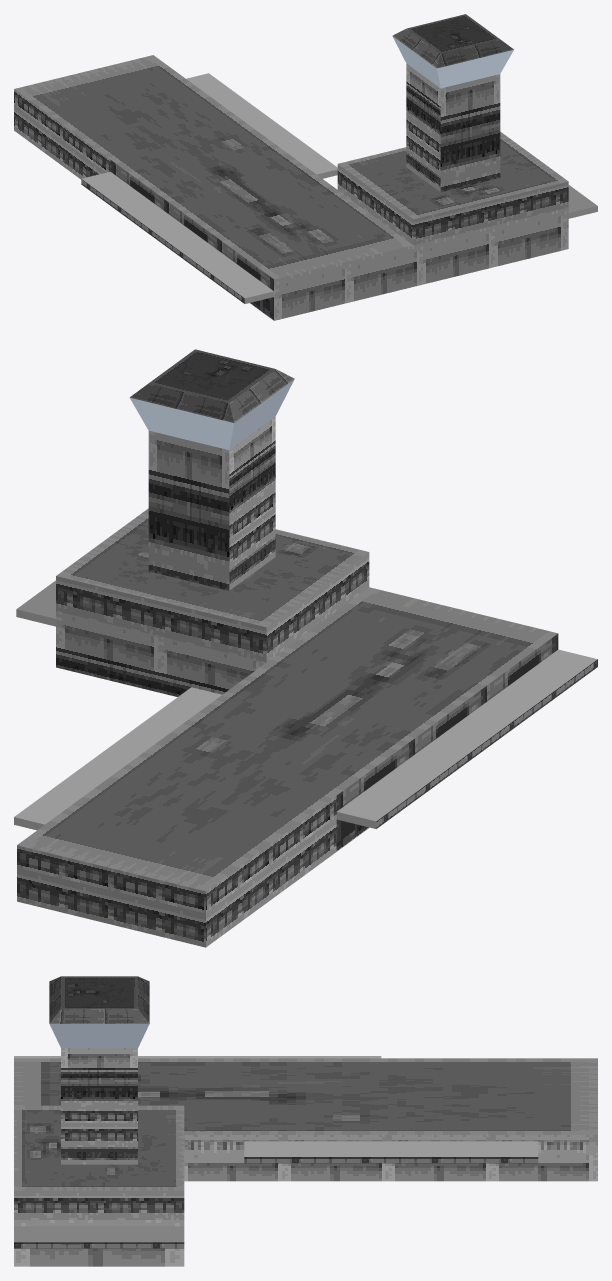
Rendered from uvmd-0030.glb.
3 renders of one model, top to bottom at view 1: azimuth 30°, elevation 25°; view 2: azimuth 150°, elevation 25°; view 3: azimuth 270°, elevation 25°, orthographic. The views are drawn at different scales.
Visible parts, largest first — view 1: uvmd-0030; view 2: uvmd-0030; view 3: uvmd-0030.
Boxes of the visible parts, <box> form: uvmd-0030: <box>14,14,597,320</box>; uvmd-0030: <box>14,349,597,947</box>; uvmd-0030: <box>14,976,597,1266</box>.
Bounding box in the file's own units: 712 × 397 × 908.
3 materials, 3 textured.
